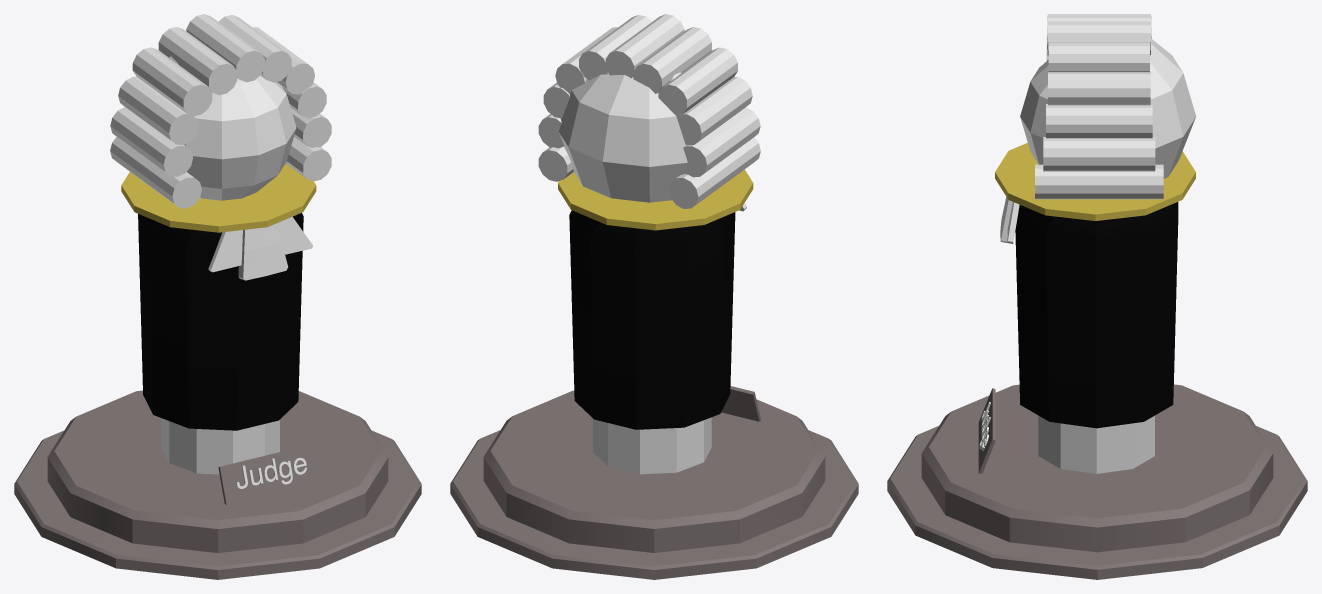
Rendered from Judge.fbx.
3 views of the same model, side by side, from view 1: azimuth 30°, elevation 25°; view 2: azimuth 150°, elevation 25°; view 3: azimuth 270°, elevation 25° (orthographic). The views are drawn at different scales.
Parts seen in each view (by area): view 1: pCylinder9, pCylinder13, pSphere3, pCylinder12, pCube25, pCube26, pCylinder21, pCylinder20, pCylinder22, pCylinder19, pCylinder18, pCylinder23 (+5 smaller); view 2: pCylinder9, pCylinder13, pSphere14, pCylinder12, pCylinder21, pCylinder20, pCylinder22, pCylinder19, pCylinder18, pCylinder23, pCylinder24, pCylinder28 (+4 smaller); view 3: pCylinder9, pCylinder13, pCylinder12, pSphere14, pCylinder28, pCylinder27, pCylinder26, pCylinder25, pCylinder24, pCylinder23, pSphere3, pCylinder22 (+2 smaller).
Boxes of the visible parts, box(x1,y1,x2,y2) form: pCylinder9: box(14, 390, 421, 579); pCylinder13: box(138, 213, 303, 474); pSphere3: box(184, 75, 296, 200); pCylinder12: box(121, 163, 316, 232); pCube25: box(208, 216, 312, 280); pCube26: box(218, 442, 328, 504); pCylinder21: box(132, 47, 212, 116); pCylinder20: box(118, 76, 198, 144); pCylinder22: box(158, 27, 237, 95); pCylinder19: box(110, 107, 192, 176); pCylinder18: box(110, 137, 201, 208); pCylinder23: box(186, 14, 264, 82); pCylinder9: box(450, 390, 858, 579); pCylinder13: box(569, 210, 735, 474); pSphere14: box(558, 72, 687, 202); pCylinder12: box(558, 169, 753, 230); pCylinder21: box(658, 47, 737, 116); pCylinder20: box(676, 77, 752, 145); pCylinder22: box(633, 27, 711, 93); pCylinder19: box(683, 107, 760, 177); pCylinder18: box(668, 137, 760, 208); pCylinder23: box(605, 14, 684, 78); pCylinder24: box(579, 15, 651, 80); pCylinder28: box(538, 146, 573, 181); pCylinder9: box(887, 384, 1307, 579); pCylinder13: box(1015, 202, 1178, 473); pCylinder12: box(995, 142, 1195, 220); pSphere14: box(1150, 38, 1196, 178); pCylinder28: box(1035, 164, 1163, 199); pCylinder27: box(1043, 137, 1155, 171); pCylinder26: box(1046, 104, 1152, 138); pCylinder25: box(1048, 72, 1150, 105); pCylinder24: box(1048, 42, 1149, 71); pCylinder23: box(1047, 21, 1150, 55); pSphere3: box(1020, 60, 1048, 164); pCylinder22: box(1047, 14, 1150, 21).
Bounding box in the file's own units: 10.26 × 12.72 × 10.26.
